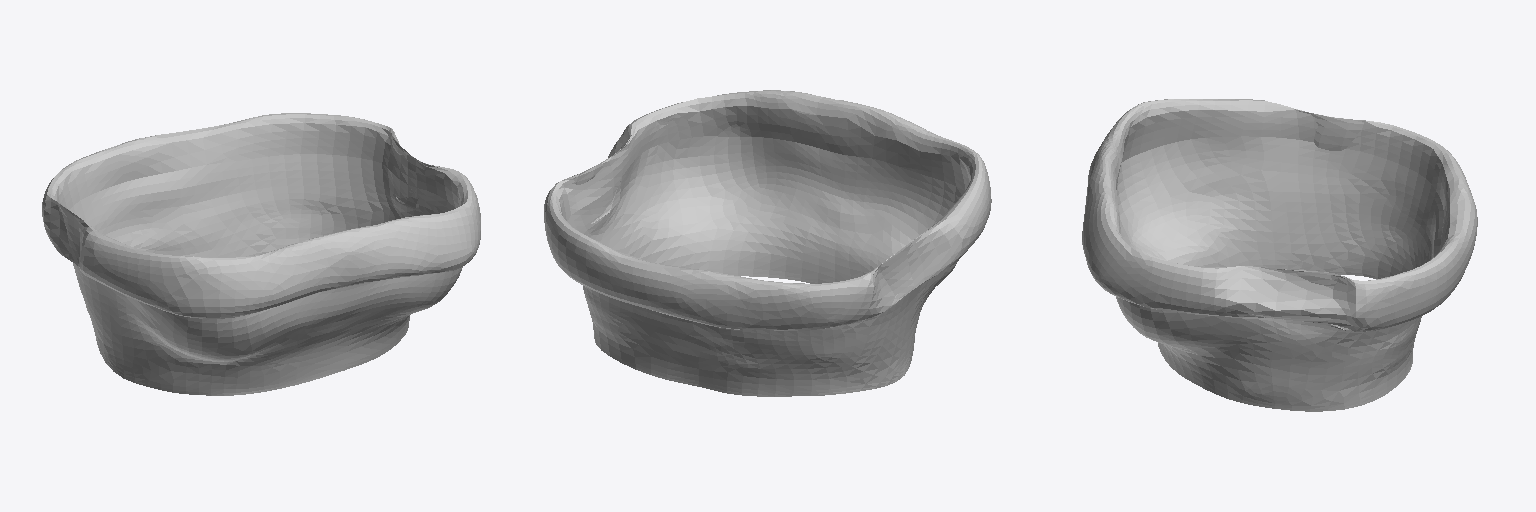
Rendered from ChristmasTop.obj.
The picture shows the model from 3 angles: view 1: azimuth 30°, elevation 25°; view 2: azimuth 150°, elevation 25°; view 3: azimuth 270°, elevation 25°; orthographic projection.
Parts seen in each view (by area): view 1: ChristmasTopRed, ChristmasTopWhite; view 2: ChristmasTopRed, ChristmasTopWhite; view 3: ChristmasTopRed, ChristmasTopWhite.
Boxes of the visible parts, x1,y1,x2,y2 form: ChristmasTopRed: [54, 123, 462, 395]; ChristmasTopWhite: [42, 113, 480, 318]; ChristmasTopRed: [559, 106, 970, 396]; ChristmasTopWhite: [544, 90, 991, 330]; ChristmasTopRed: [1116, 110, 1449, 411]; ChristmasTopWhite: [1082, 99, 1477, 331].
Size of the model in its own units: 0.2954 by 0.1359 by 0.276.